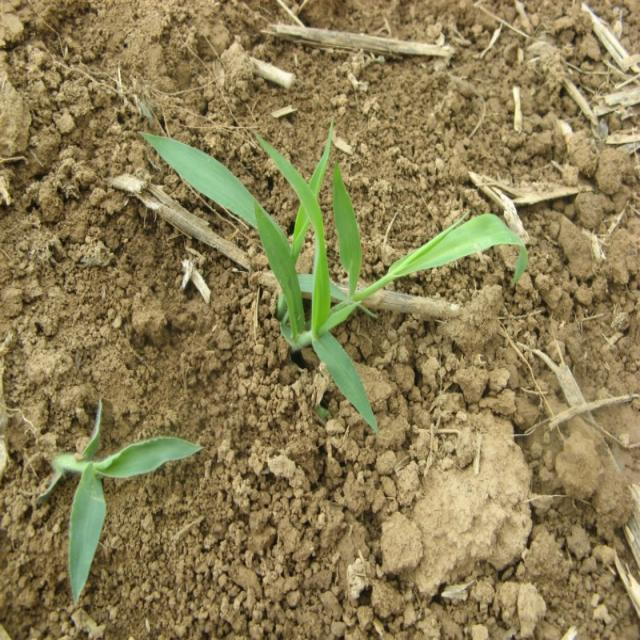bg: (133, 125, 535, 428)
